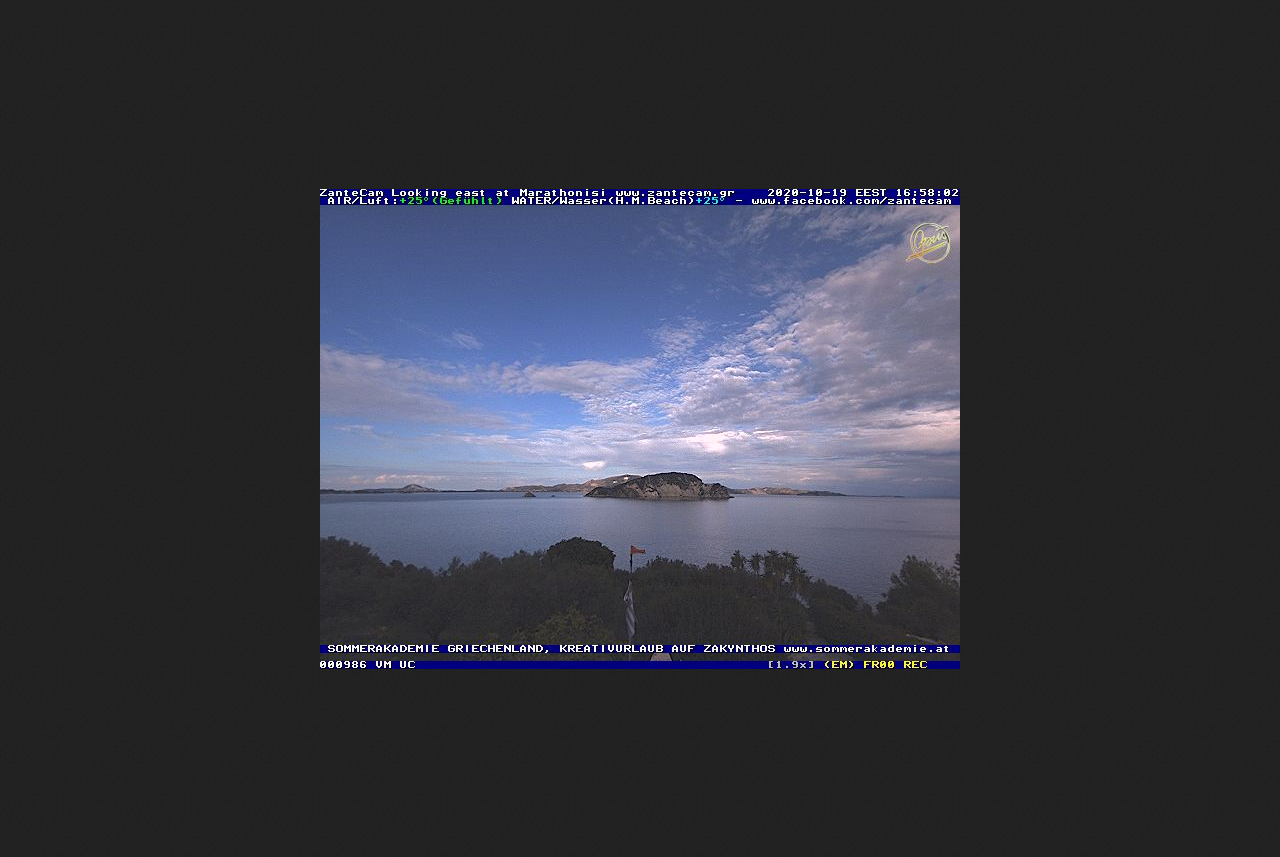no: (619, 579, 638, 643)
